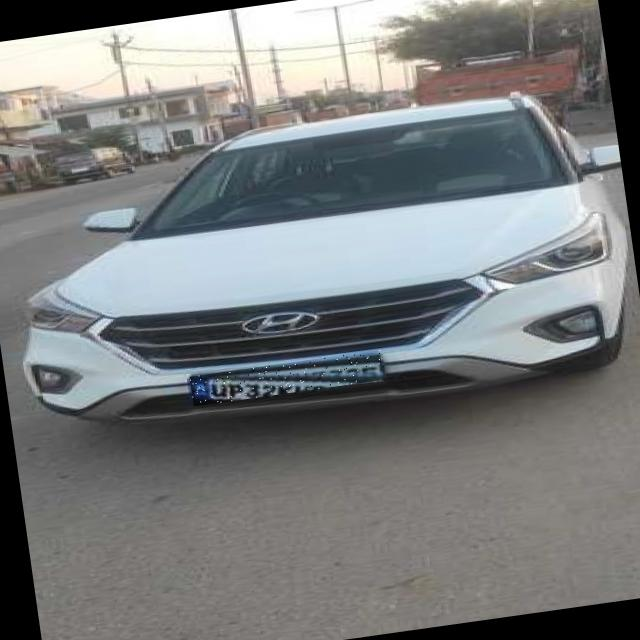Plate: (191, 351, 385, 407)
